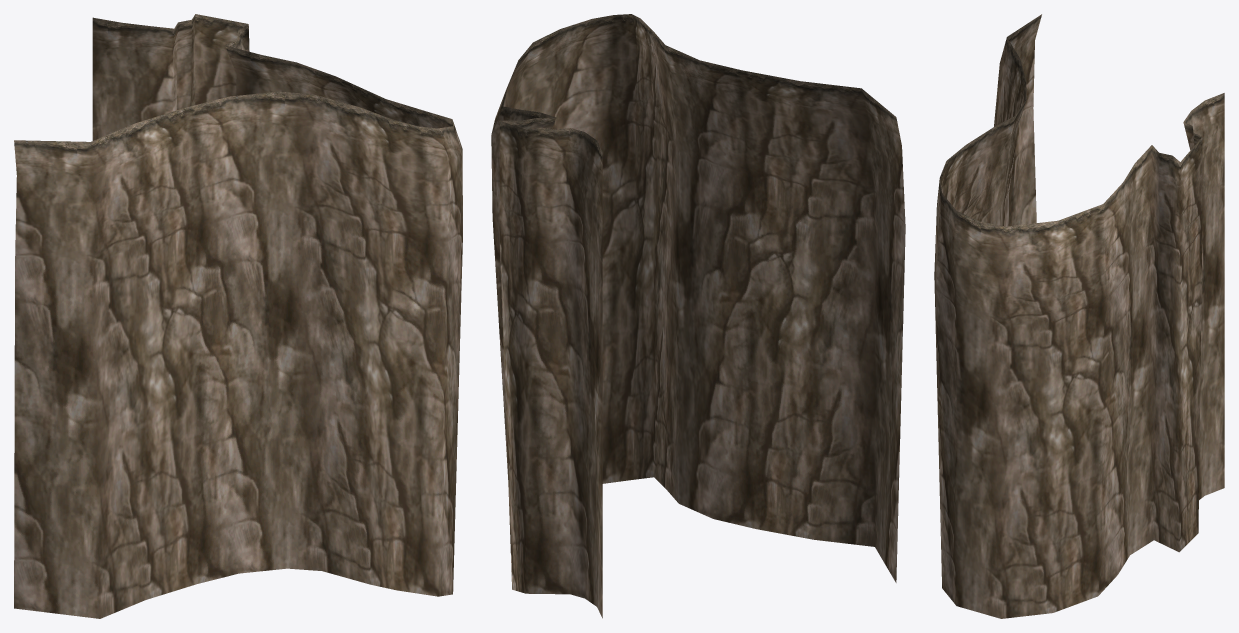
Rendered from OVERHILL_A_01_LINE02.fbx.
3 views of the same model, side by side, from view 1: azimuth 30°, elevation 25°; view 2: azimuth 150°, elevation 25°; view 3: azimuth 270°, elevation 25° (orthographic). The views are drawn at different scales.
Parts seen in each view (by area): view 1: OVERHILL_A_01_LINE02; view 2: OVERHILL_A_01_LINE02; view 3: OVERHILL_A_01_LINE02.
Part boxes in pixels (box(x1,y1,x2,y2)): OVERHILL_A_01_LINE02: box(14, 14, 462, 618); OVERHILL_A_01_LINE02: box(491, 14, 905, 618); OVERHILL_A_01_LINE02: box(934, 14, 1224, 618).
Bounding box in the file's own units: 153455 × 185437 × 109625.
2 materials, 2 textured.
